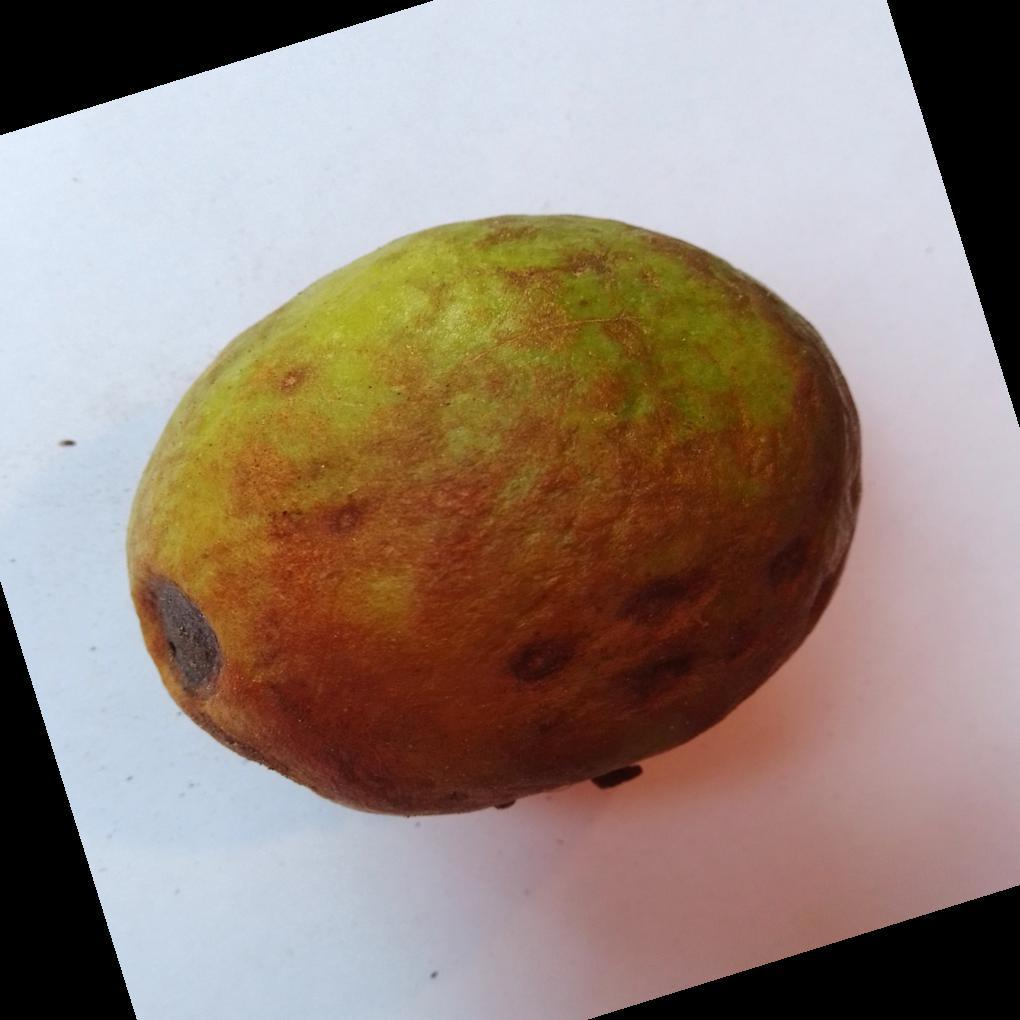FreshOrange: (122, 214, 864, 822)
